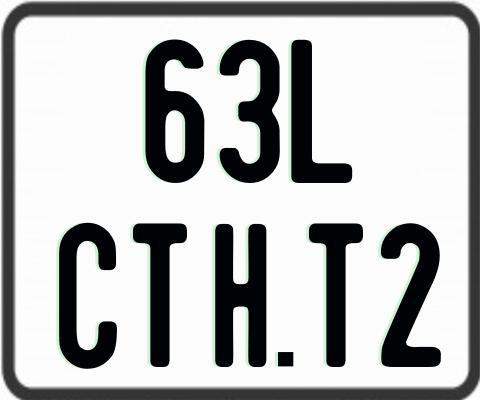2: (381, 221, 441, 367)
3: (218, 38, 281, 181)
6: (143, 36, 207, 183)
C: (59, 221, 123, 371)
H: (213, 223, 269, 370)
L: (288, 38, 354, 187)
T: (130, 223, 187, 371), (306, 220, 362, 368)
